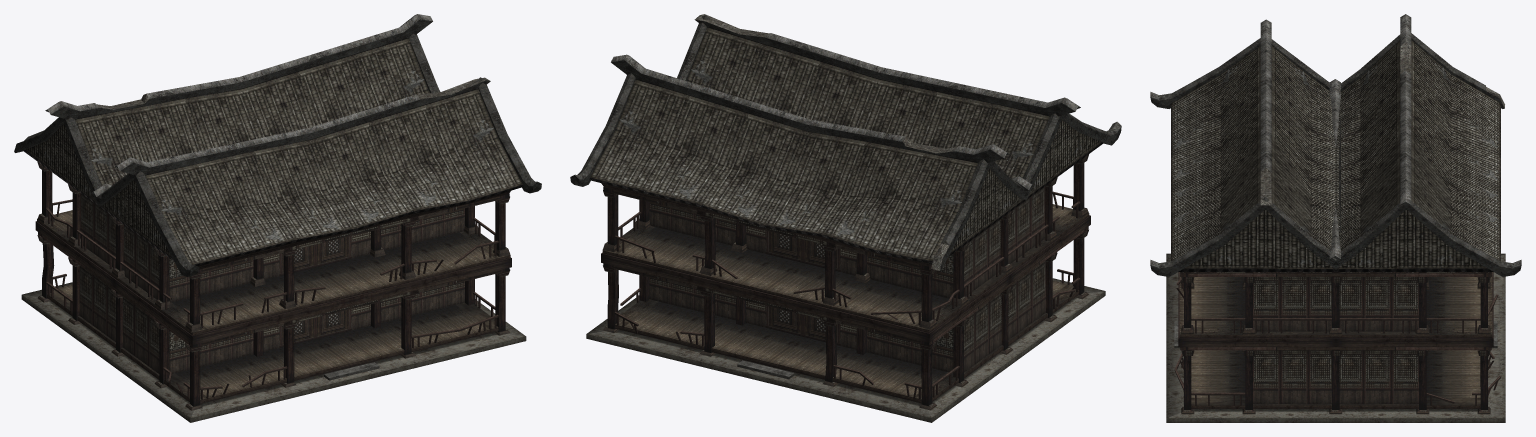
File: ep-033-guesthouse-01.fbx
3 renders of one model, left to right at view 1: azimuth 30°, elevation 25°; view 2: azimuth 150°, elevation 25°; view 3: azimuth 270°, elevation 25°, orthographic. The views are drawn at different scales.
Parts seen in each view (by area): view 1: ep-033-guesthouse-02; view 2: ep-033-guesthouse-02; view 3: ep-033-guesthouse-02.
Boxes of the visible parts, box(x1,y1,x2,y2) form: ep-033-guesthouse-02: box(14, 14, 541, 422); ep-033-guesthouse-02: box(570, 14, 1121, 422); ep-033-guesthouse-02: box(1150, 14, 1521, 422).
Bounding box in the file's own units: 21.33 × 12.64 × 17.86.
